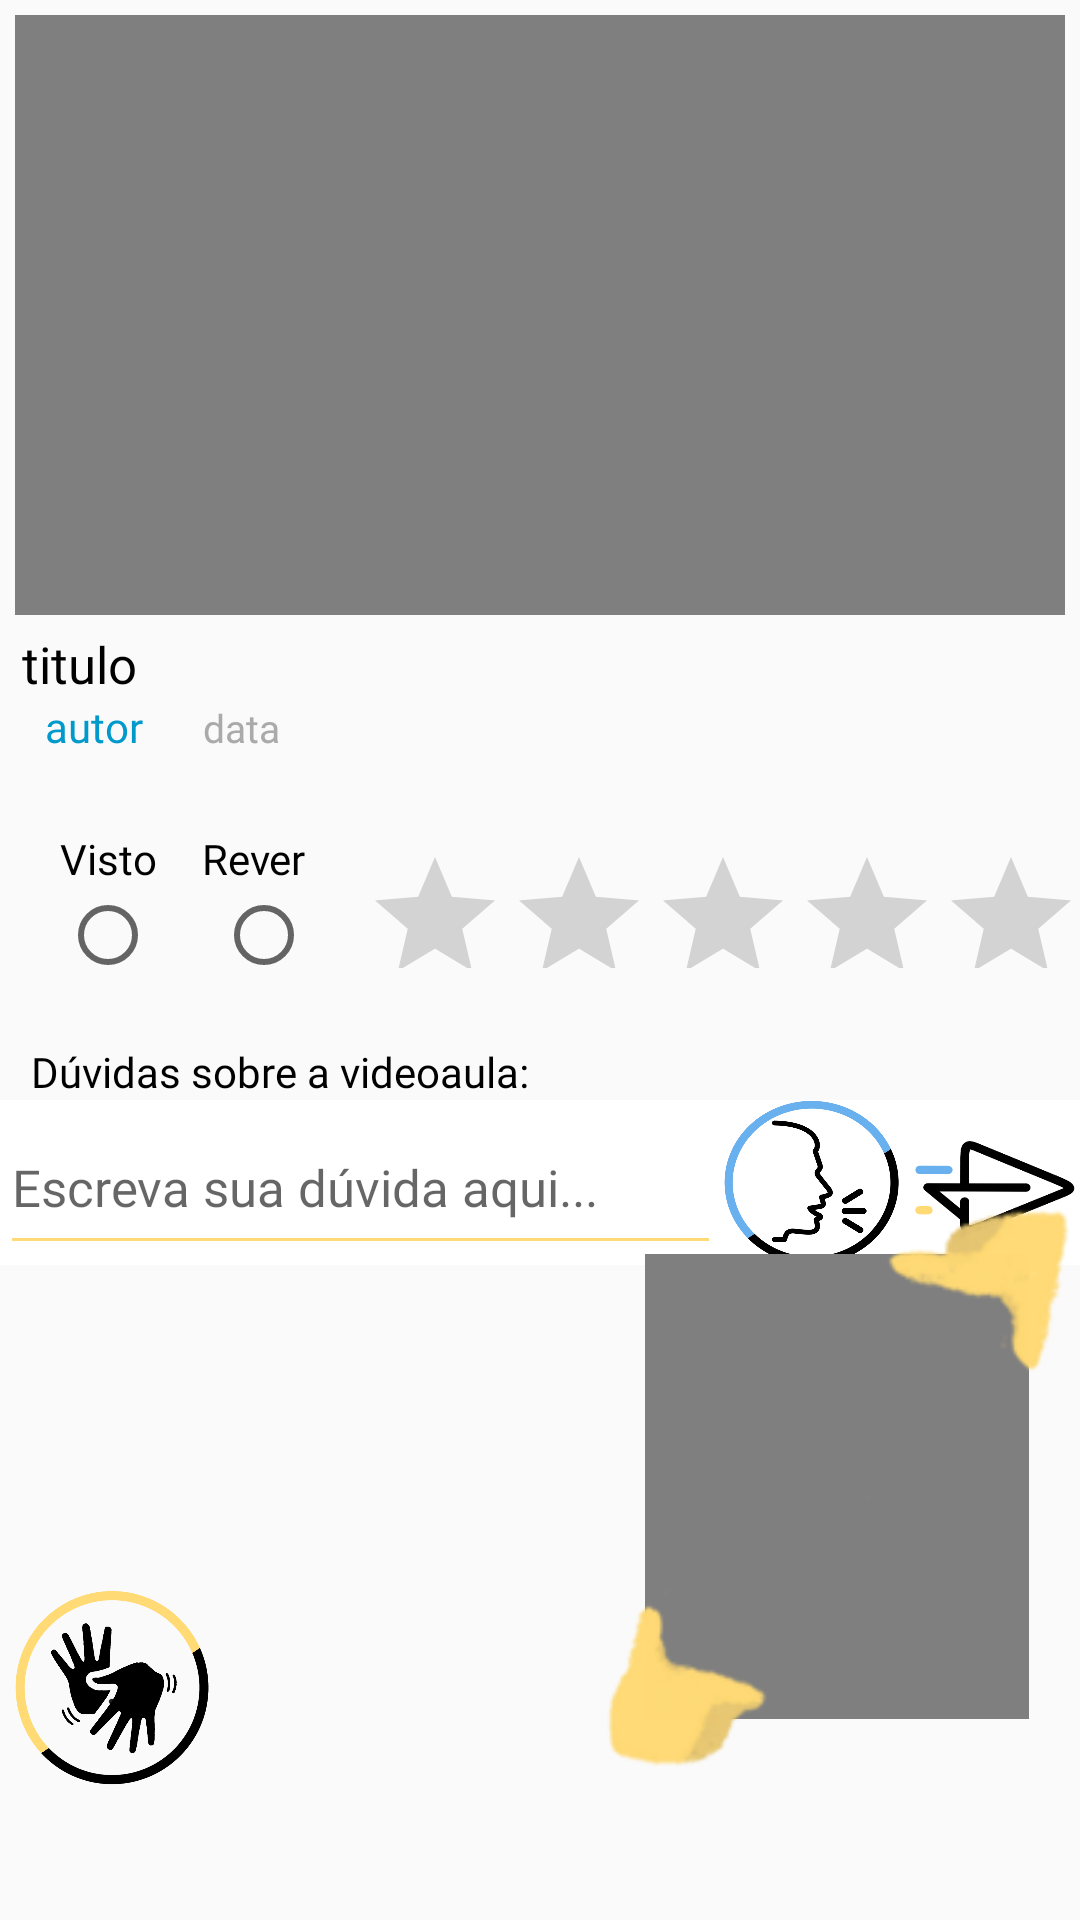

Screen size 1080px×1920px. Icon name, then its box in pixels as (x1, y1, x2, y2):
falar: (724, 1101, 900, 1265)
